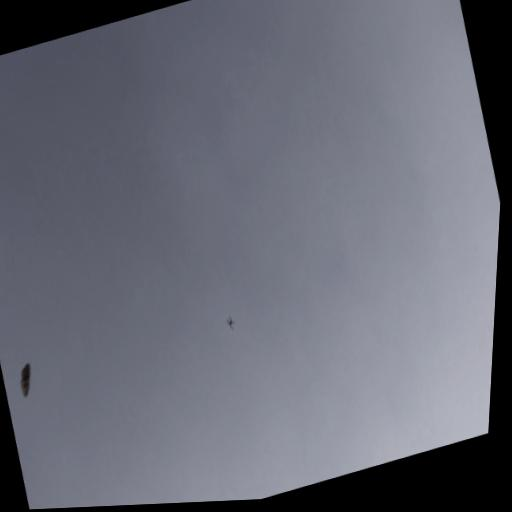drones: (224, 312, 238, 332)
